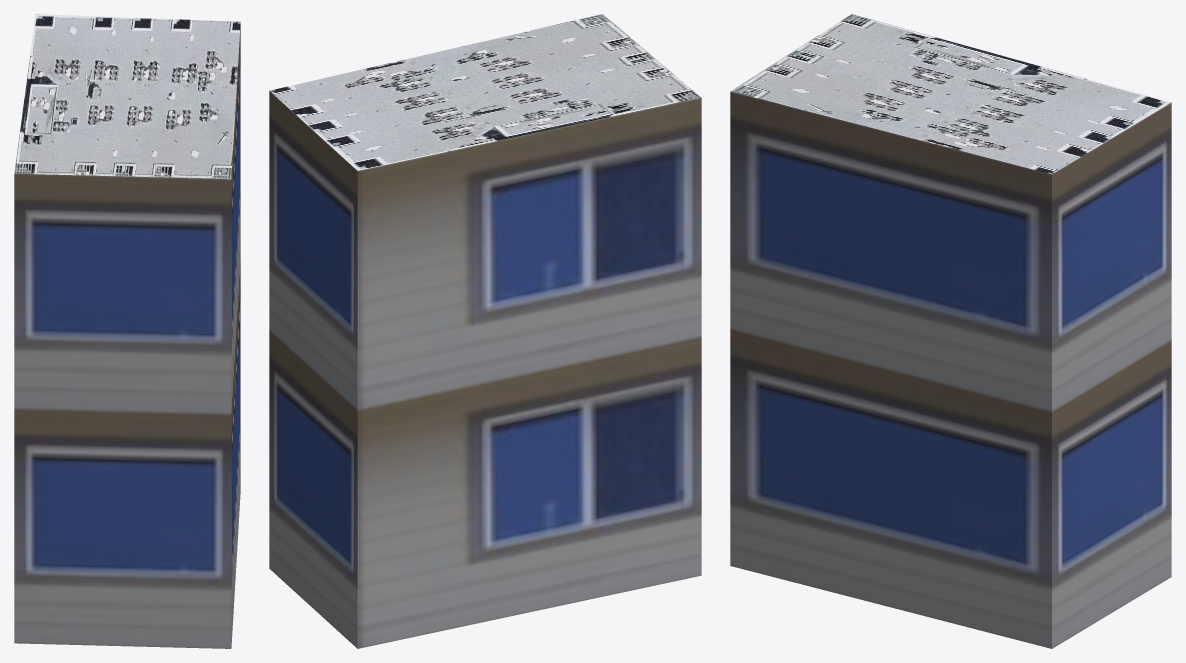
File: ResTex__3033.fbx
3 views of the same model, side by side, from view 1: azimuth 30°, elevation 25°; view 2: azimuth 150°, elevation 25°; view 3: azimuth 270°, elevation 25° (orthographic).
Parts seen in each view (by area): view 1: CityEngineMaterial_23_m, CityEngineMaterial_8_m; view 2: CityEngineMaterial_23_m, CityEngineMaterial_8_m; view 3: CityEngineMaterial_23_m, CityEngineMaterial_8_m.
Boxes of the visible parts, box(x1,y1,x2,y2) form: CityEngineMaterial_23_m: box(14, 25, 240, 648); CityEngineMaterial_8_m: box(14, 14, 240, 179); CityEngineMaterial_23_m: box(269, 91, 701, 648); CityEngineMaterial_8_m: box(270, 14, 700, 170); CityEngineMaterial_23_m: box(730, 91, 1171, 648); CityEngineMaterial_8_m: box(731, 14, 1170, 174).
Bounding box in the file's own units: 4.35 × 6 × 5.05.
2 materials, 2 textured.
